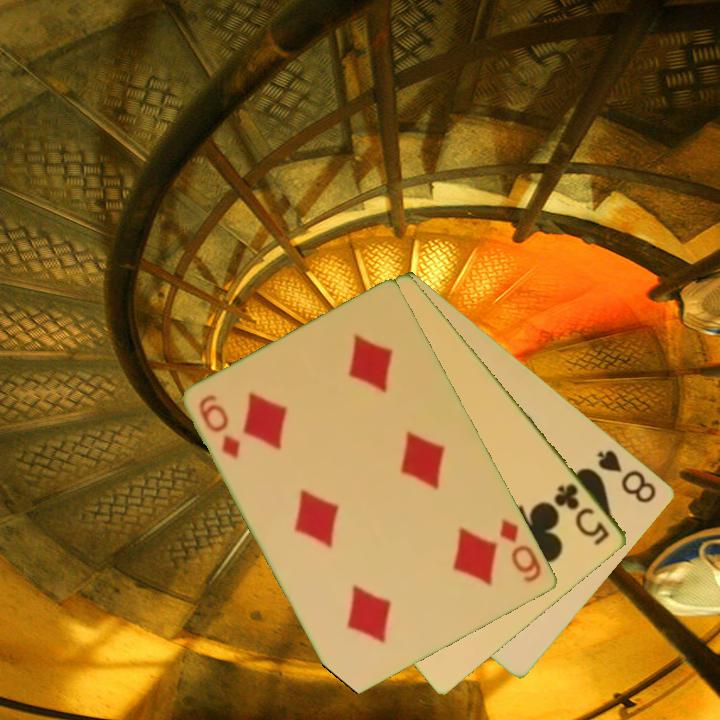5c: (550, 480, 613, 548)
6d: (496, 515, 545, 586), (195, 391, 244, 462)
8s: (593, 446, 660, 506)
